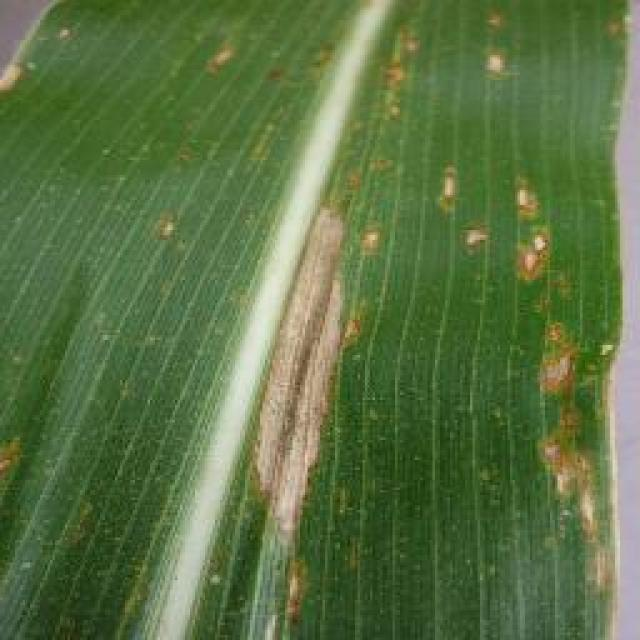Corn___Northern_Leaf_Blight: (115, 120, 626, 640)
